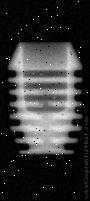Novodent: (8, 42, 83, 157)
